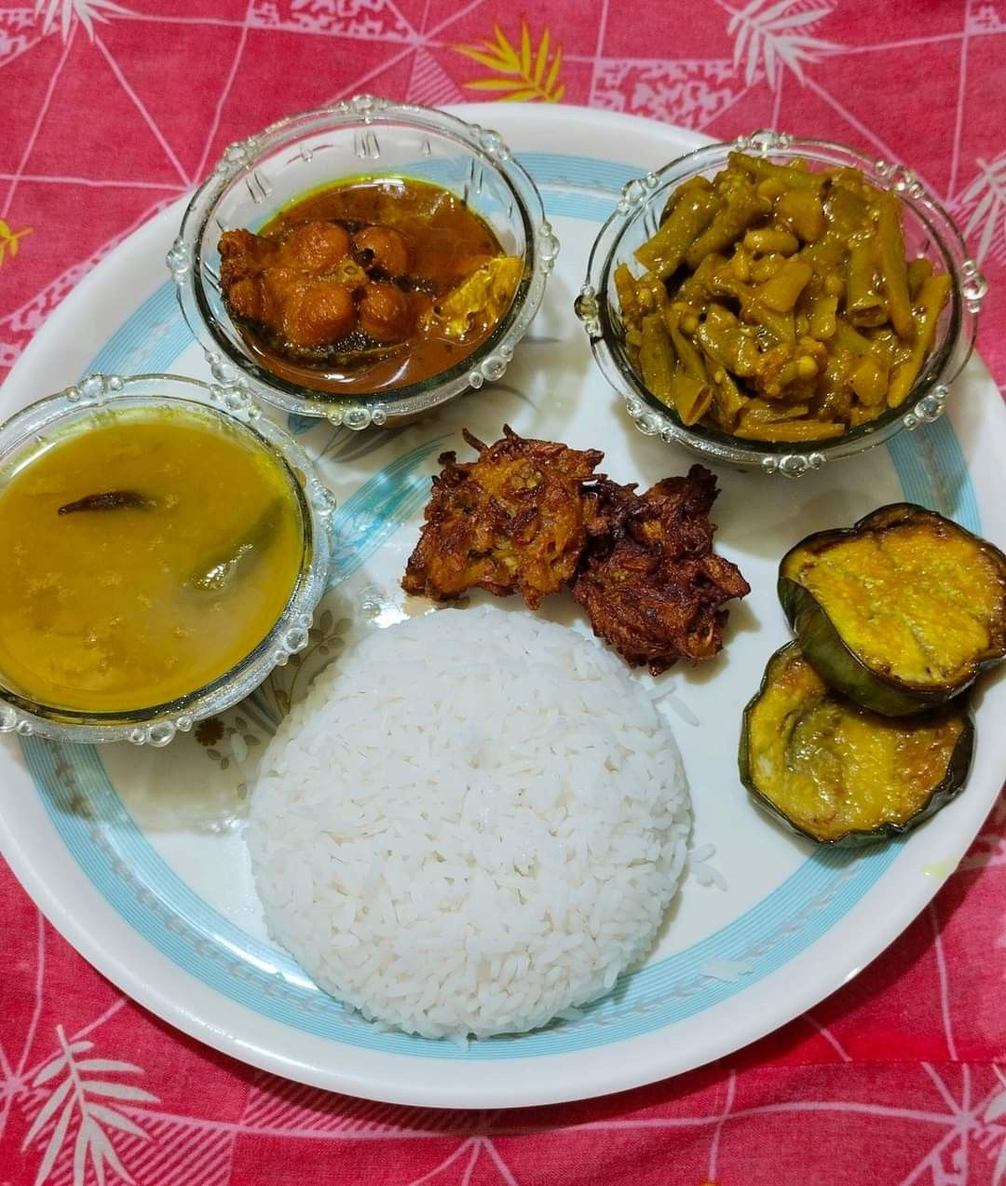bhat: (265, 606, 684, 1029)
dal: (7, 416, 288, 695)
sabji: (622, 144, 956, 434), (743, 516, 1000, 828)
